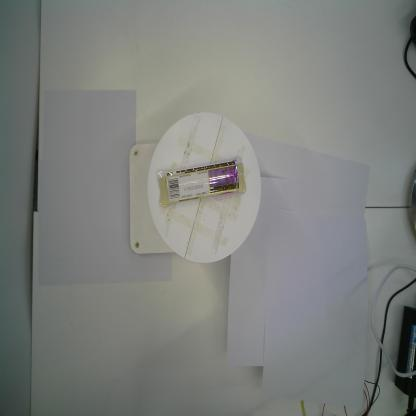Chocolate: (156, 155, 247, 208)
